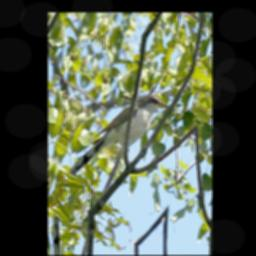Cuckoo: (67, 61, 169, 216)
